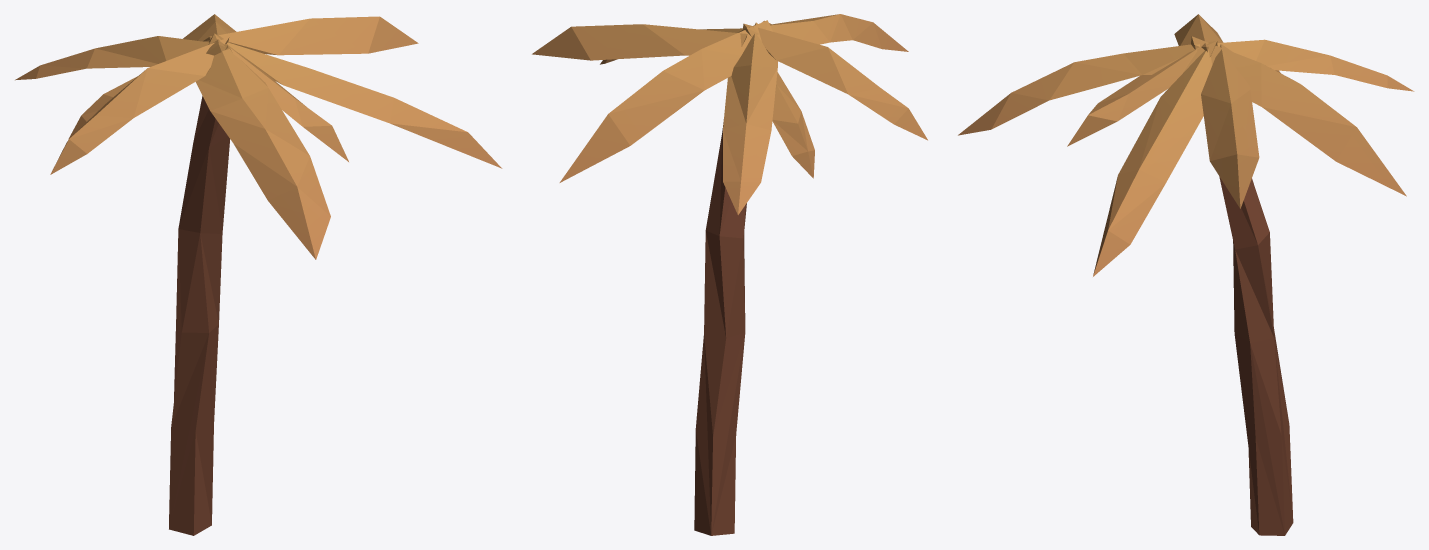
The model's file is Tree_13_gradient_yellow_vc.fbx.
The picture shows the model from 3 angles, left to right: view 1: azimuth 30°, elevation 25°; view 2: azimuth 150°, elevation 25°; view 3: azimuth 270°, elevation 25°; orthographic projection. The views are drawn at different scales.
Parts seen in each view (by area): view 1: Tree_13_gradient_yellow_vc; view 2: Tree_13_gradient_yellow_vc; view 3: Tree_13_gradient_yellow_vc.
Boxes of the visible parts, x1,y1,x2,y2 form: Tree_13_gradient_yellow_vc: [15, 14, 502, 535]; Tree_13_gradient_yellow_vc: [532, 14, 927, 535]; Tree_13_gradient_yellow_vc: [958, 14, 1414, 535].
Bounding box in the file's own units: 189 × 233 × 198.
